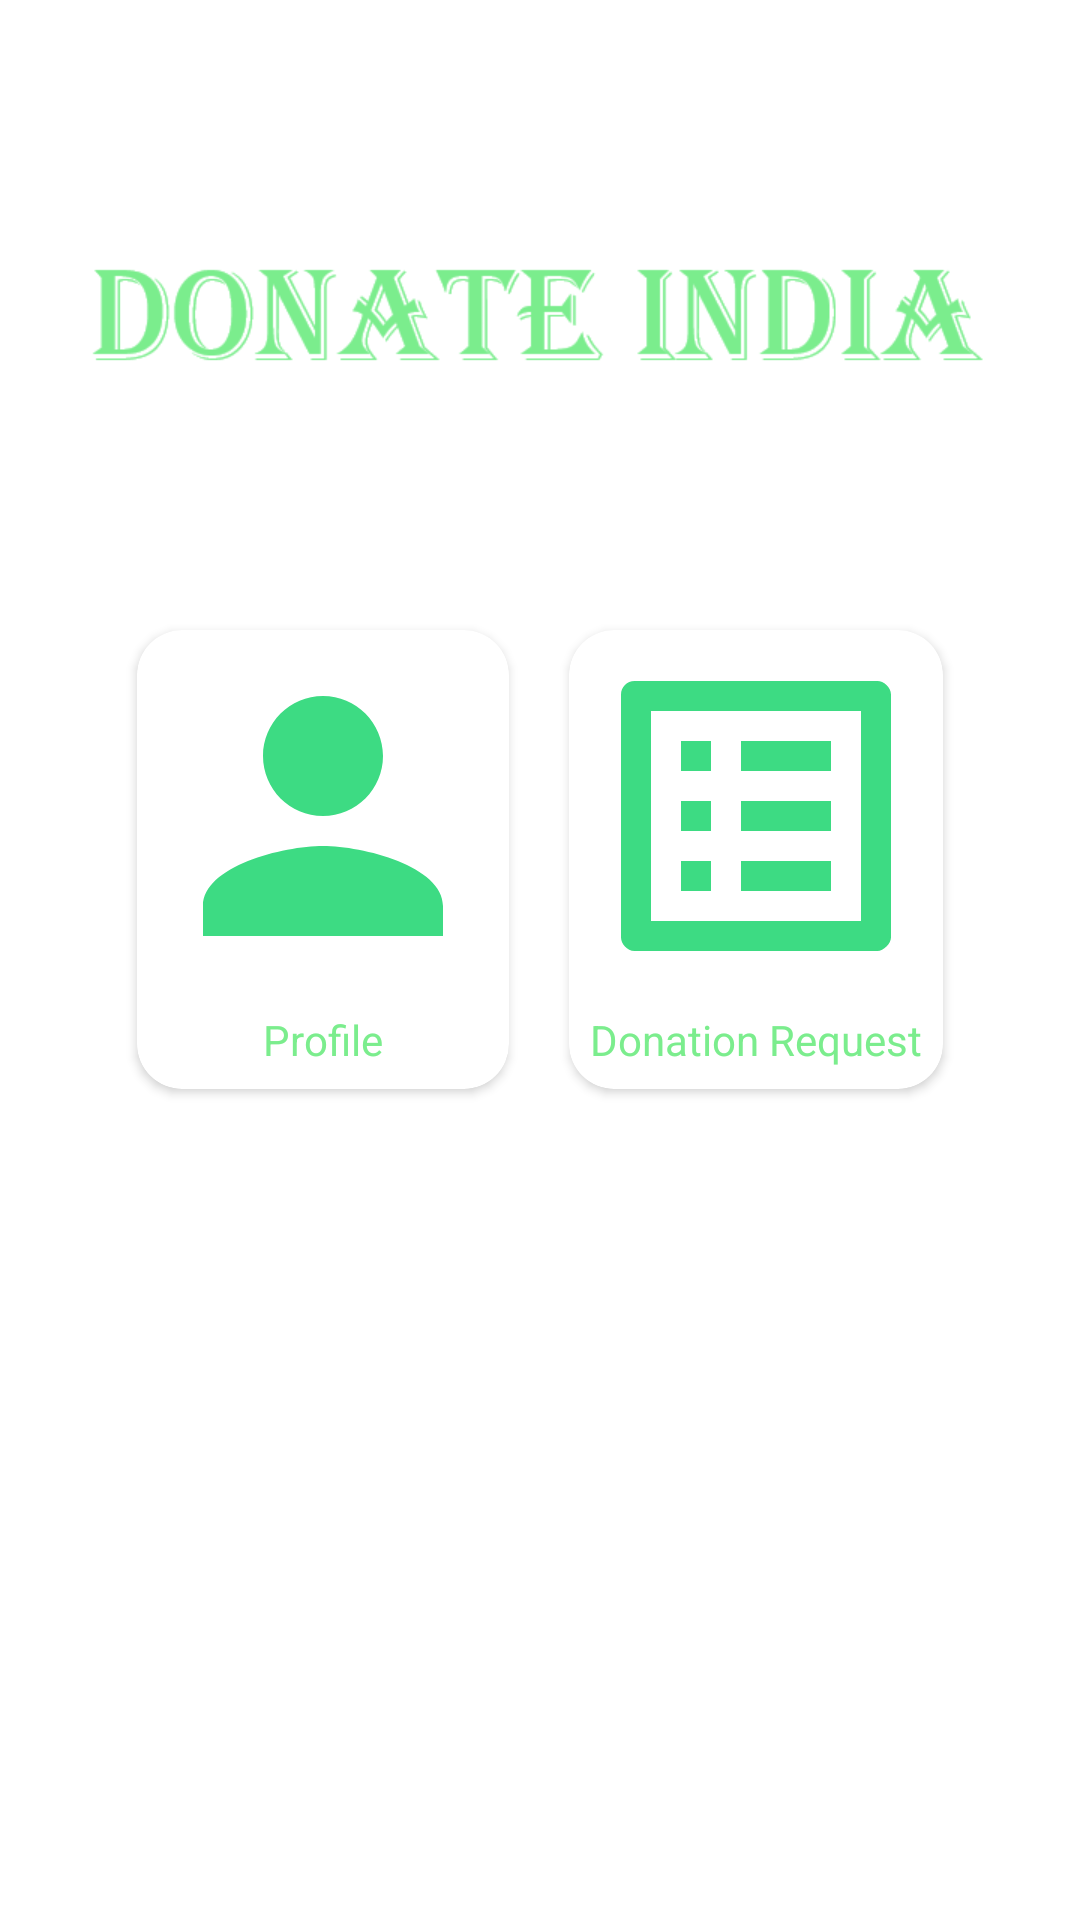

Icons on this 1080 x 1920 Android screen, each with the point to tap as (x,y):
list: (756,816)
person: (323,816)
